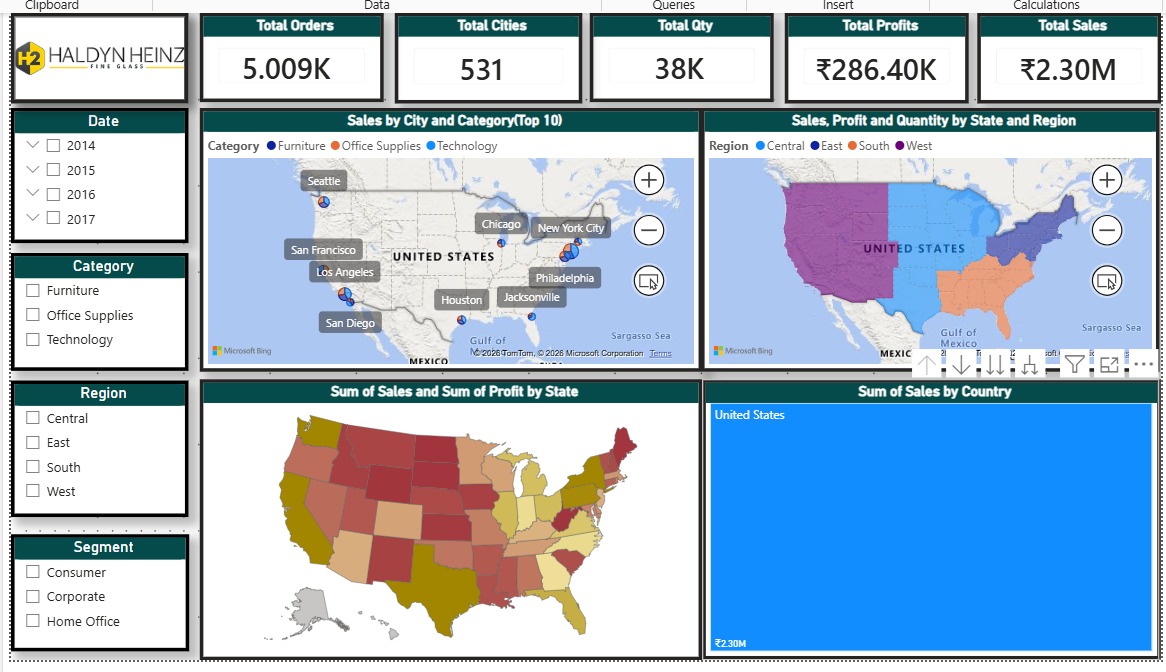

Layout of this report page (visuals, bound fields, positions):
{"tool":"powerbi","page":{"name":"Region wise Analysis","canvas":[1280,720],"ordinal":4},"visuals":[{"type":"image","box":[0,0,195.6,97.2],"z":0},{"type":"cardVisual","title":"Total Profits","fields":{"Data":["Sum(Orders.Profit)"]},"box":[861,0,205,100.7],"z":1000},{"type":"cardVisual","title":"Total Qty","fields":{"Data":["Sum(Orders.Quantity)"]},"box":[644,0.6,205,99.6],"z":2000},{"type":"cardVisual","title":"Total Cities","fields":{"Data":["Count(Orders.City)"]},"box":[427,0,209,100.7],"z":3000},{"type":"cardVisual","title":"Total Orders","fields":{"Data":["Count(Orders.Order ID)"]},"box":[209.9,0.6,205,99.6],"z":4000},{"type":"cardVisual","title":"Total Sales","fields":{"Data":["Sum(Orders.Sales)"]},"box":[1075,0,205,100.7],"z":5000},{"type":"slicer","title":"Date","fields":{"Values":["Orders.Order Date.Variation.Date Hierarchy.Year","Orders.Order Date.Variation.Date Hierarchy.Quarter","Orders.Order Date.Variation.Date Hierarchy.Month","Orders.Order Date.Variation.Date Hierarchy.Day"]},"box":[0,106.4,197.9,150.5],"z":6000},{"type":"slicer","title":"Category","fields":{"Values":["Orders.Category"]},"box":[0,266.9,197.9,131.6],"z":7000},{"type":"slicer","title":"Region","fields":{"Values":["Orders.Region"]},"box":[0,408.4,197.9,151.7],"z":8000},{"type":"slicer","title":"Segment","fields":{"Values":["Orders.Segment"]},"box":[0,580,198,130],"z":9000},{"type":"image","box":[0,0,197.9,100.7],"z":10000},{"type":"map","title":"Sales by City and Category(Top 10)","fields":{"Category":["Orders.City"],"Size":["Sum(Orders.Sales)"],"Series":["Orders.Category"]},"box":[210.1,105.7,559.3,293.6],"z":11000},{"type":"filledMap","title":"Sales, Profit and Quantity by State and Region","fields":{"Category":["Orders.State"],"Series":["Orders.Region"]},"box":[768,105.7,510.6,293.6],"z":12000},{"type":"shapeMap","fields":{"Category":["Orders.State"],"Value":["Sum(Orders.Sales)"]},"box":[210.1,407.7,559.3,313],"z":13000},{"type":"treemap","fields":{"Group":["Orders.Country","Orders.Region","Orders.State","Orders.City"],"Values":["Sum(Orders.Sales)"]},"box":[769,408,510,312],"z":14000}]}

Visuals, with their boxes on the page's 1280x720 design canvas (x1, y1, x2, y2). These are canvas units, not pixel positions in the 1166x672 screenshot, which may show the page scaled, cropped or inside an application window:
image: (x1=0, y1=0, x2=196, y2=97)
"Total Profits" cardVisual: (x1=861, y1=0, x2=1066, y2=101)
"Total Qty" cardVisual: (x1=644, y1=1, x2=849, y2=100)
"Total Cities" cardVisual: (x1=427, y1=0, x2=636, y2=101)
"Total Orders" cardVisual: (x1=210, y1=1, x2=415, y2=100)
"Total Sales" cardVisual: (x1=1075, y1=0, x2=1280, y2=101)
"Date" slicer: (x1=0, y1=106, x2=198, y2=257)
"Category" slicer: (x1=0, y1=267, x2=198, y2=398)
"Region" slicer: (x1=0, y1=408, x2=198, y2=560)
"Segment" slicer: (x1=0, y1=580, x2=198, y2=710)
image: (x1=0, y1=0, x2=198, y2=101)
"Sales by City and Category(Top 10)" map: (x1=210, y1=106, x2=769, y2=399)
"Sales, Profit and Quantity by State and Region" filledMap: (x1=768, y1=106, x2=1279, y2=399)
shapeMap - Orders.State x Sum(Orders.Sales): (x1=210, y1=408, x2=769, y2=721)
treemap - Orders.Country x Orders.Region: (x1=769, y1=408, x2=1279, y2=720)
